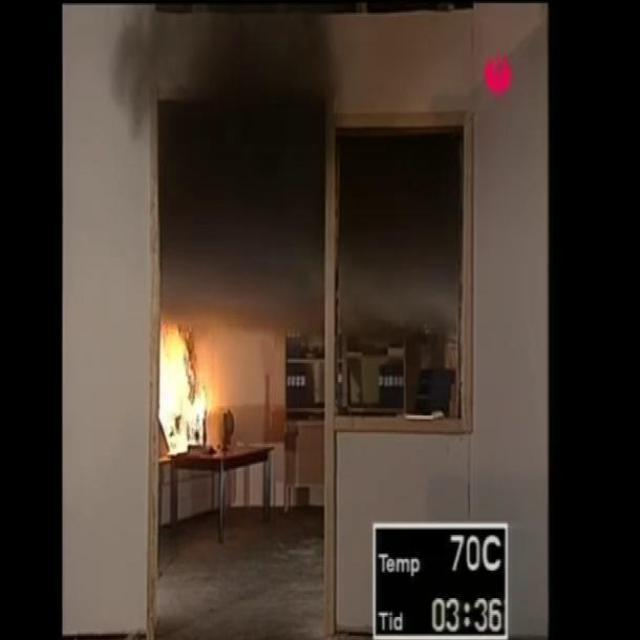fire: (158, 103, 326, 330), (117, 6, 346, 140), (342, 142, 463, 340)
smoke: (158, 322, 210, 464)
